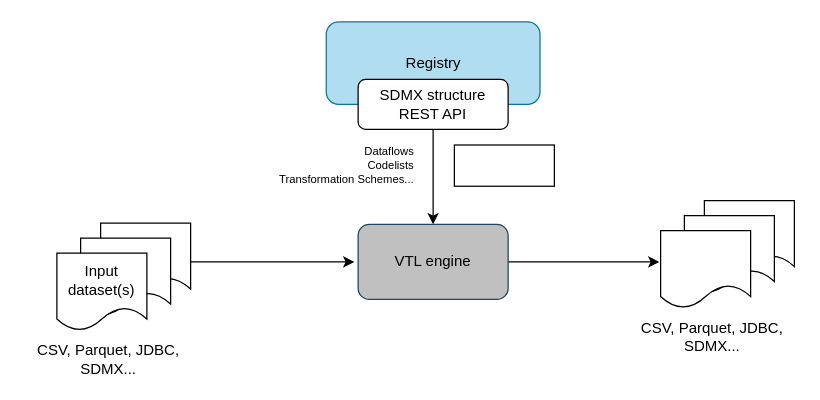
Image size: 820x400. Some labels were removed from this diagram. The shapes that lost their labels are listed below. From the top down, each one's centre as x and y in pixels, then its label:
the point at 503,165: VTL Code
the point at 705,268: Output dataset(s)
